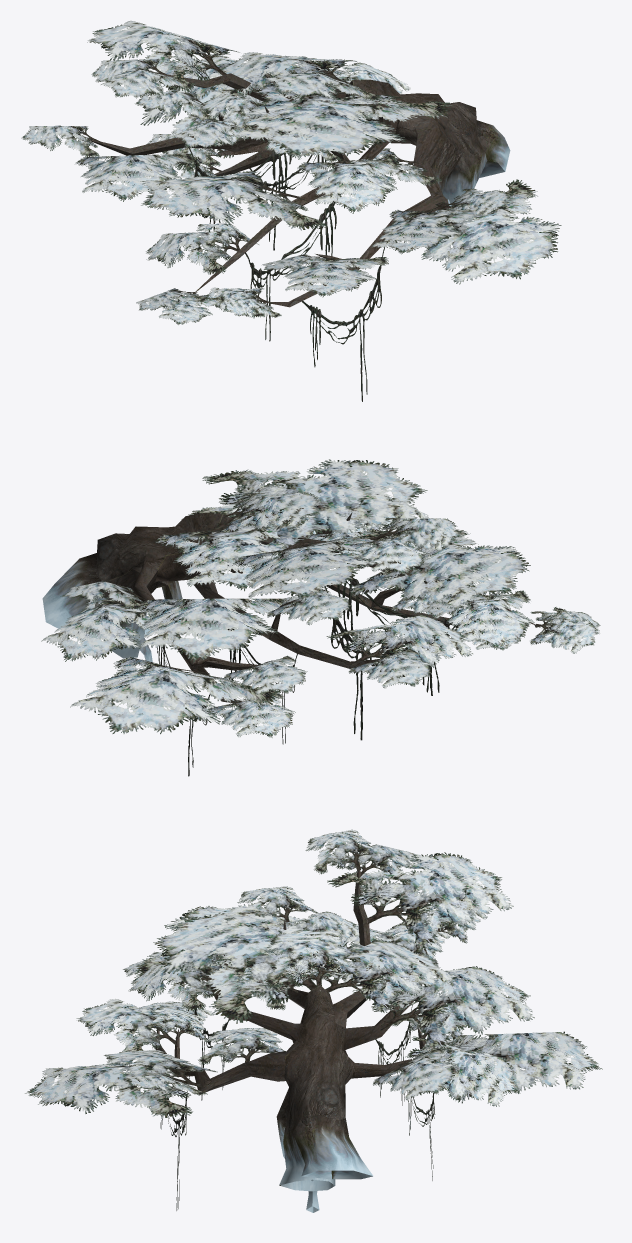
File: 2005_Item_shu_3.FBX
3 renders of one model, top to bottom at view 1: azimuth 30°, elevation 25°; view 2: azimuth 150°, elevation 25°; view 3: azimuth 270°, elevation 25°, orthographic. The views are drawn at different scales.
Visible parts, largest first — view 1: 2005_Item_shu_3; view 2: 2005_Item_shu_3; view 3: 2005_Item_shu_3.
Part boxes in pixels (x1=…): 2005_Item_shu_3: x1=21, y1=20, x2=561, y2=401; 2005_Item_shu_3: x1=41, y1=459, x2=600, y2=776; 2005_Item_shu_3: x1=25, y1=829, x2=602, y2=1212.
Size of the model in its own units: 775 by 507 by 903.
